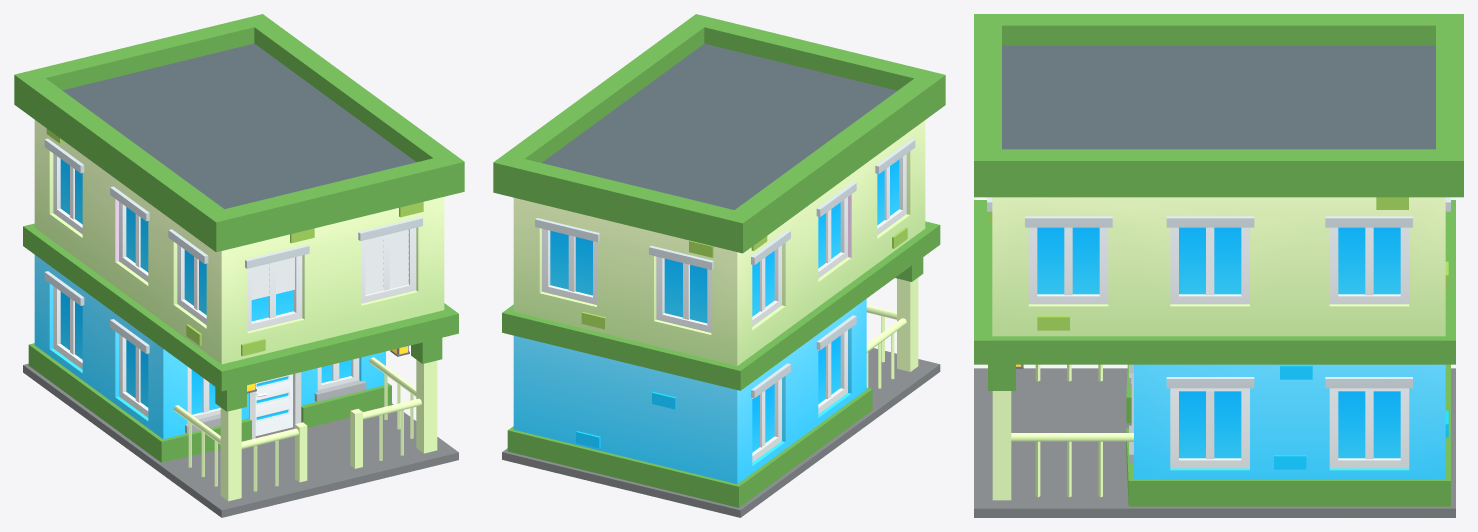
The model's file is city2-building-living-01.glb.
The picture shows the model from 3 angles, left to right: view 1: azimuth 30°, elevation 25°; view 2: azimuth 150°, elevation 25°; view 3: azimuth 270°, elevation 25°; orthographic projection. The views are drawn at different scales.
Visible parts, largest first — view 1: Building_Living_01; view 2: Building_Living_01; view 3: Building_Living_01.
Boxes of the visible parts, x1,y1,x2,y2 form: Building_Living_01: (14,14,464,517); Building_Living_01: (493,14,945,517); Building_Living_01: (974,14,1463,517).
Size of the model in its own units: 6.86 by 7.83 by 9.65.
Materials: 1 (1 with a texture image).
